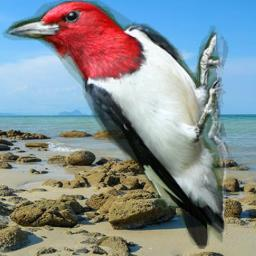Woodpecker: (1, 0, 237, 249)
